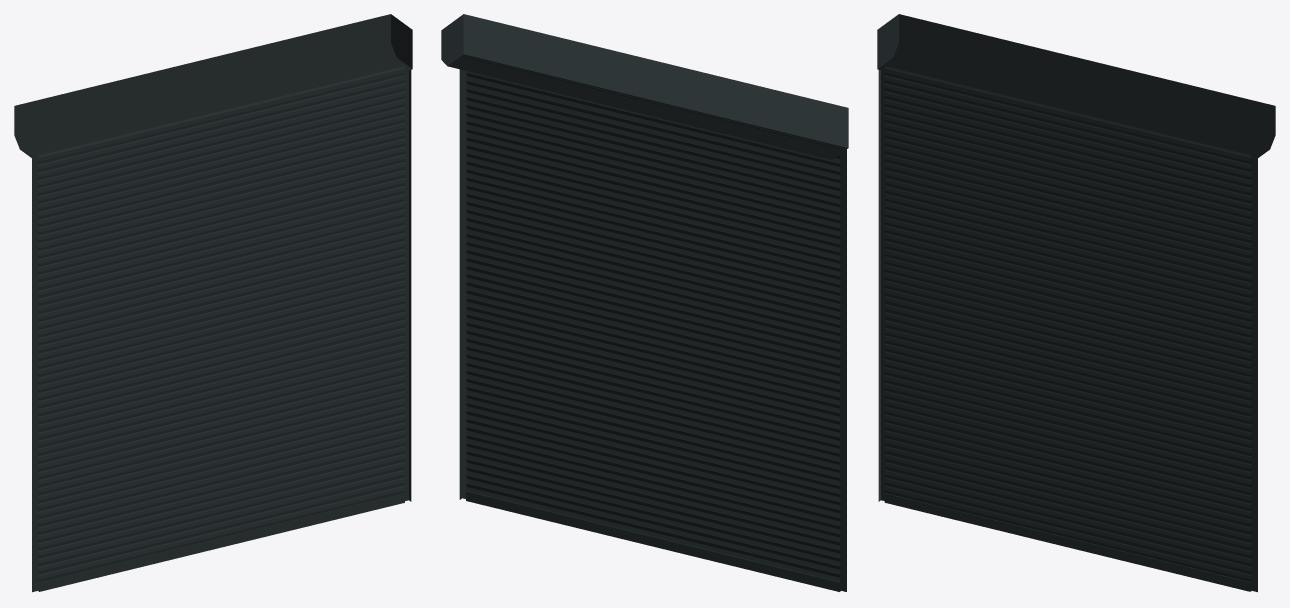
The picture shows the model from 3 angles, left to right: view 1: azimuth 30°, elevation 25°; view 2: azimuth 150°, elevation 25°; view 3: azimuth 330°, elevation 25°; orthographic projection. The views are drawn at different scales.
Parts seen in each view (by area): view 1: volet, lame_15, lame_14, lame_12, lame_8, lame_6, lame_11, lame_7, lame_5, lame_1, lame_13, lame_9 (+8 smaller); view 2: volet, lame_14, lame_13, lame_11, lame_10, lame_7, lame_6, lame_4, lame_3, lame_1, lame, lame_15 (+8 smaller); view 3: volet, lame_14, lame_8, lame_15, lame_12, lame_11, lame_6, lame_9, lame, lame_5, lame_3, lame_7 (+8 smaller).
Part boxes in pixels (x1,y1,x2,y2): volet: (14, 14, 412, 592); lame_15: (38, 91, 404, 203); lame_14: (38, 114, 404, 227); lame_12: (38, 162, 404, 274); lame_8: (38, 256, 404, 369); lame_6: (38, 304, 404, 416); lame_11: (38, 185, 404, 298); lame_7: (38, 280, 404, 392); lame_5: (38, 327, 404, 440); lame_1: (38, 422, 404, 534); lame_13: (38, 138, 404, 250); lame_9: (38, 233, 404, 345); volet: (441, 14, 848, 591); lame_14: (466, 104, 840, 219); lame_13: (466, 128, 840, 243); lame_11: (466, 177, 840, 291); lame_10: (466, 201, 840, 316); lame_7: (466, 273, 840, 388); lame_6: (466, 298, 840, 412); lame_4: (466, 346, 840, 461); lame_3: (466, 370, 840, 485); lame_1: (466, 418, 840, 533); lame: (466, 443, 840, 557); lame_15: (466, 80, 840, 195); volet: (877, 14, 1275, 592); lame_14: (884, 114, 1251, 227); lame_8: (884, 256, 1251, 369); lame_15: (884, 91, 1251, 203); lame_12: (884, 162, 1251, 274); lame_11: (884, 185, 1251, 298); lame_6: (884, 304, 1251, 416); lame_9: (884, 233, 1251, 345); lame: (884, 445, 1251, 558); lame_5: (884, 327, 1251, 440); lame_3: (884, 375, 1251, 487); lame_7: (884, 280, 1251, 392).
Bounding box in the file's own units: 200 × 240 × 20.
1 material, 1 textured.
